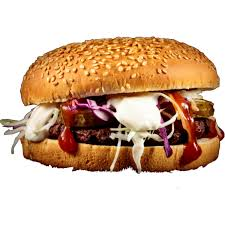hamburger: (7, 36, 225, 175)
